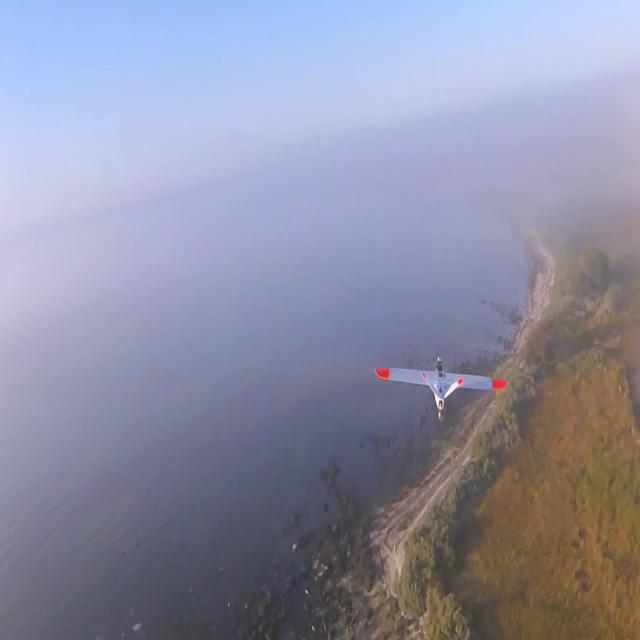iha: (374, 388, 508, 390)
